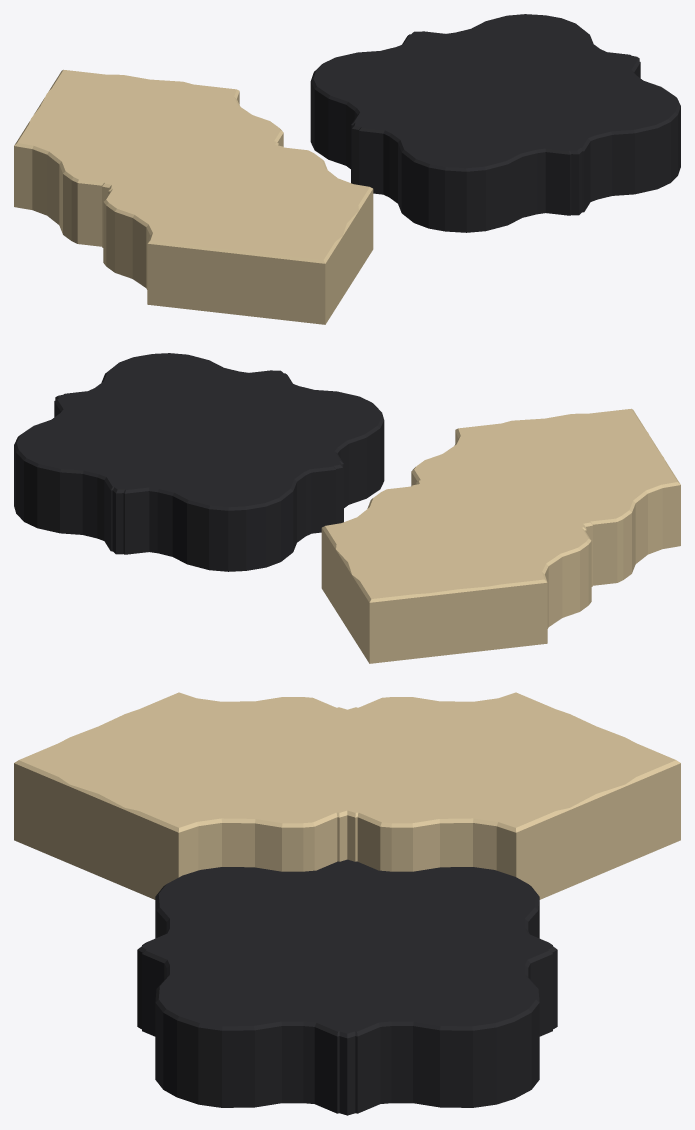
Rendered from mahsulot.glb.
3 views of the same model, one above another, from view 1: azimuth 30°, elevation 25°; view 2: azimuth 150°, elevation 25°; view 3: azimuth 270°, elevation 25° (orthographic). The views are drawn at different scales.
Visible parts, largest first — view 1: mahsulot_A, mahsulot_B; view 2: mahsulot_A, mahsulot_B; view 3: mahsulot_A, mahsulot_B.
Part boxes in pixels (<box>): mahsulot_A: <box>14,69,373,324</box>; mahsulot_B: <box>310,14,680,232</box>; mahsulot_A: <box>321,408,680,663</box>; mahsulot_B: <box>14,353,384,571</box>; mahsulot_A: <box>14,692,680,899</box>; mahsulot_B: <box>137,859,557,1115</box>.
Size of the model in its own units: 0.369 by 0.04 by 0.3015.
